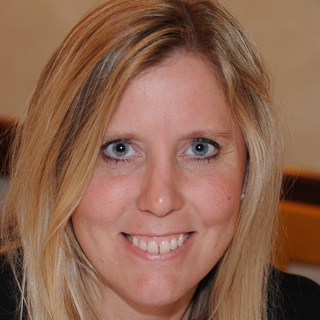eye: (95, 135, 140, 164), (179, 134, 225, 161)
